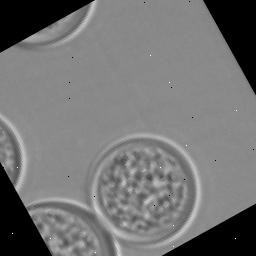picoshell: (86, 132, 202, 247), (27, 196, 122, 256), (13, 0, 98, 50), (0, 112, 28, 189)
